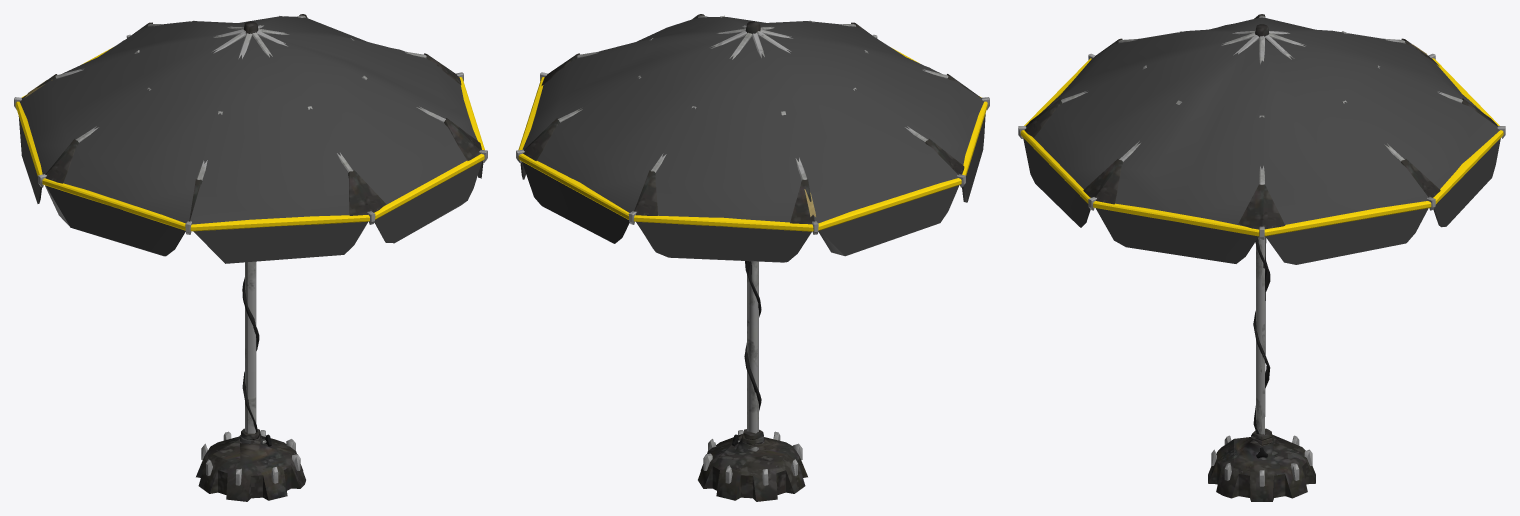
File: KB3D_NEC_BldgSM_B_Umbrella.glb
The picture shows the model from 3 angles, left to right: view 1: azimuth 30°, elevation 25°; view 2: azimuth 150°, elevation 25°; view 3: azimuth 270°, elevation 25°; orthographic projection.
Visible parts, largest first — view 1: KB3D_NEC_BldgSM_B_Umbrella; view 2: KB3D_NEC_BldgSM_B_Umbrella; view 3: KB3D_NEC_BldgSM_B_Umbrella.
Part boxes in pixels (left/top/right/bottom): KB3D_NEC_BldgSM_B_Umbrella: left=14, top=14, right=487, bottom=501; KB3D_NEC_BldgSM_B_Umbrella: left=516, top=14, right=989, bottom=501; KB3D_NEC_BldgSM_B_Umbrella: left=1018, top=14, right=1505, bottom=501.
Bounding box in the file's own units: 3.35 × 3.43 × 3.35.
Materials: 9 (5 with a texture image).
